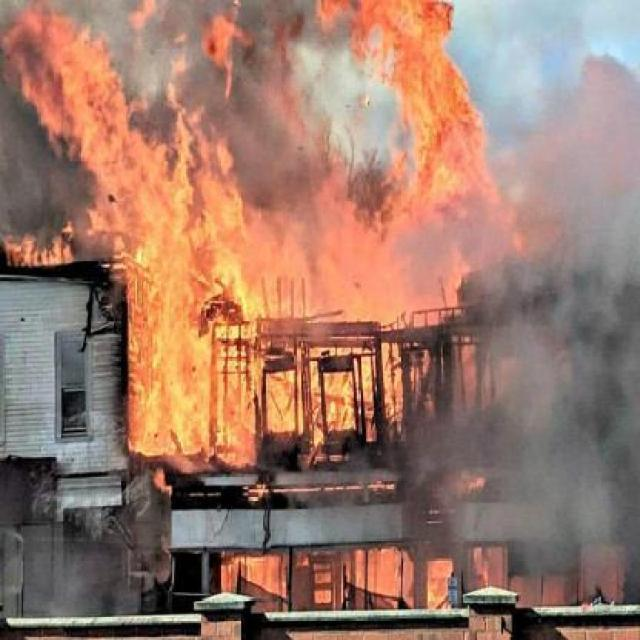Fire: (17, 29, 391, 427), (340, 0, 504, 217)
